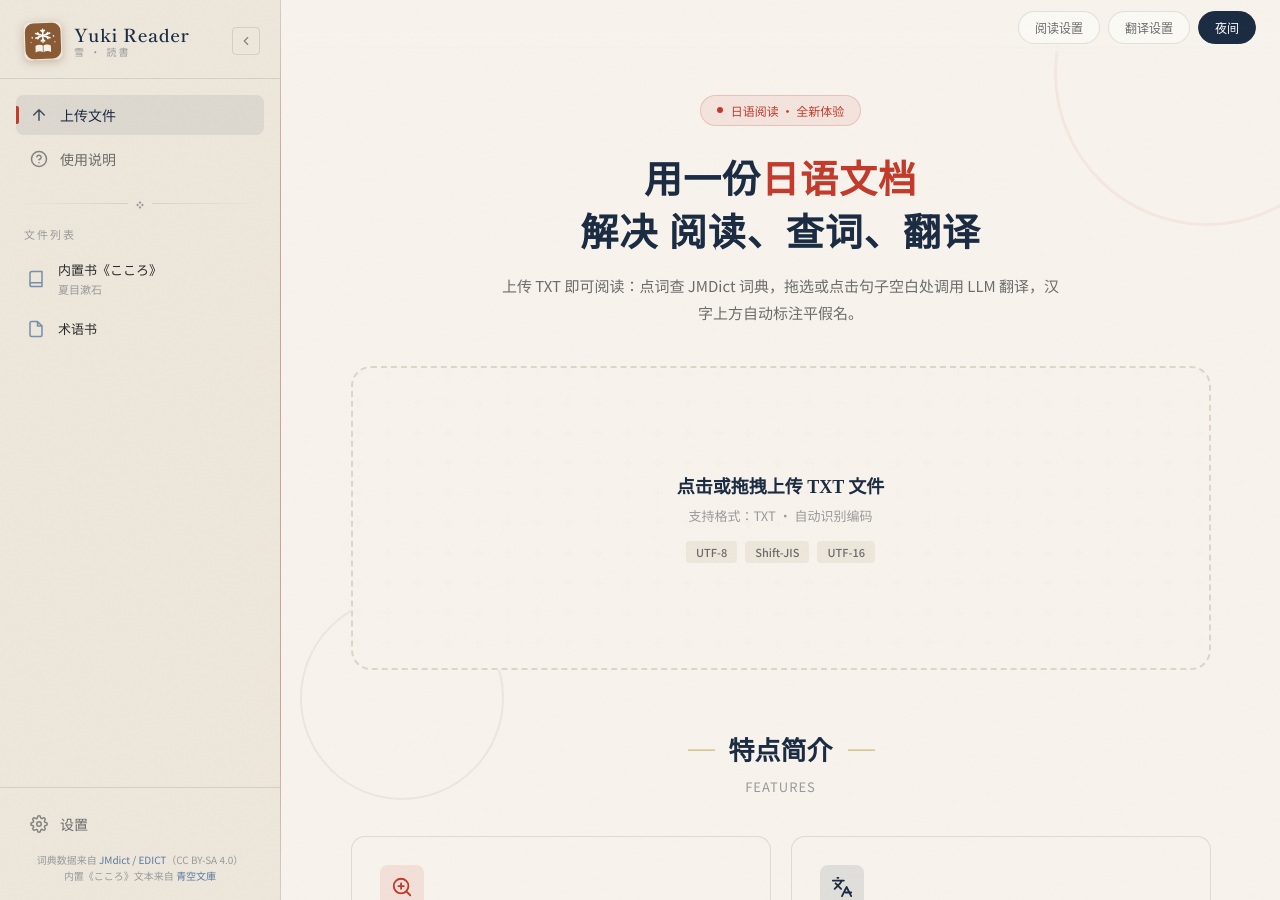
Test case: 每书术语表 › adds a term via the topbar modal and injects it into the translation prompt
The image size is (1280, 900).
Click the button "术语书".
click(125, 328)  # box [12, 309, 238, 348]
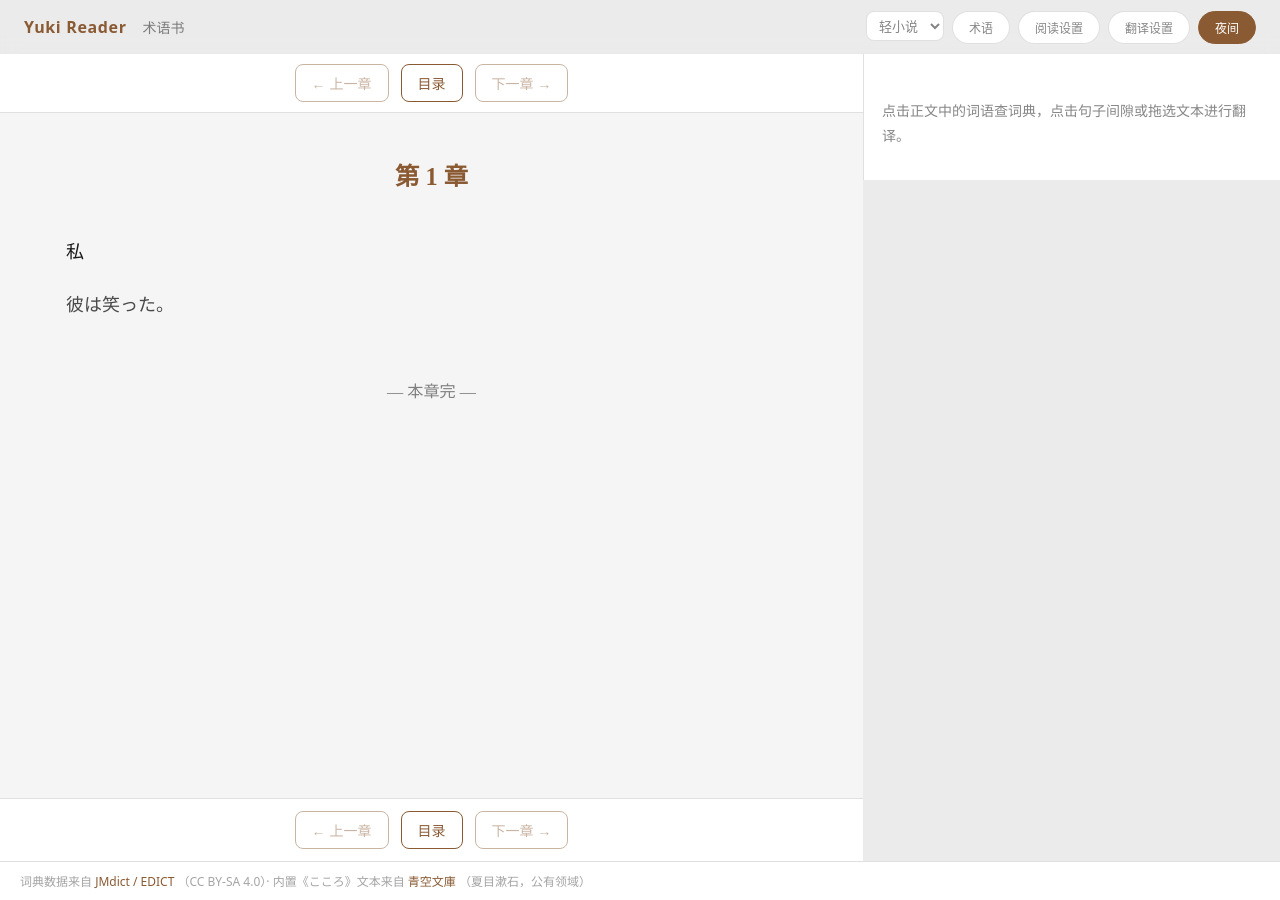
Click the button "术语".
click(981, 27)  # box [952, 10, 1010, 44]
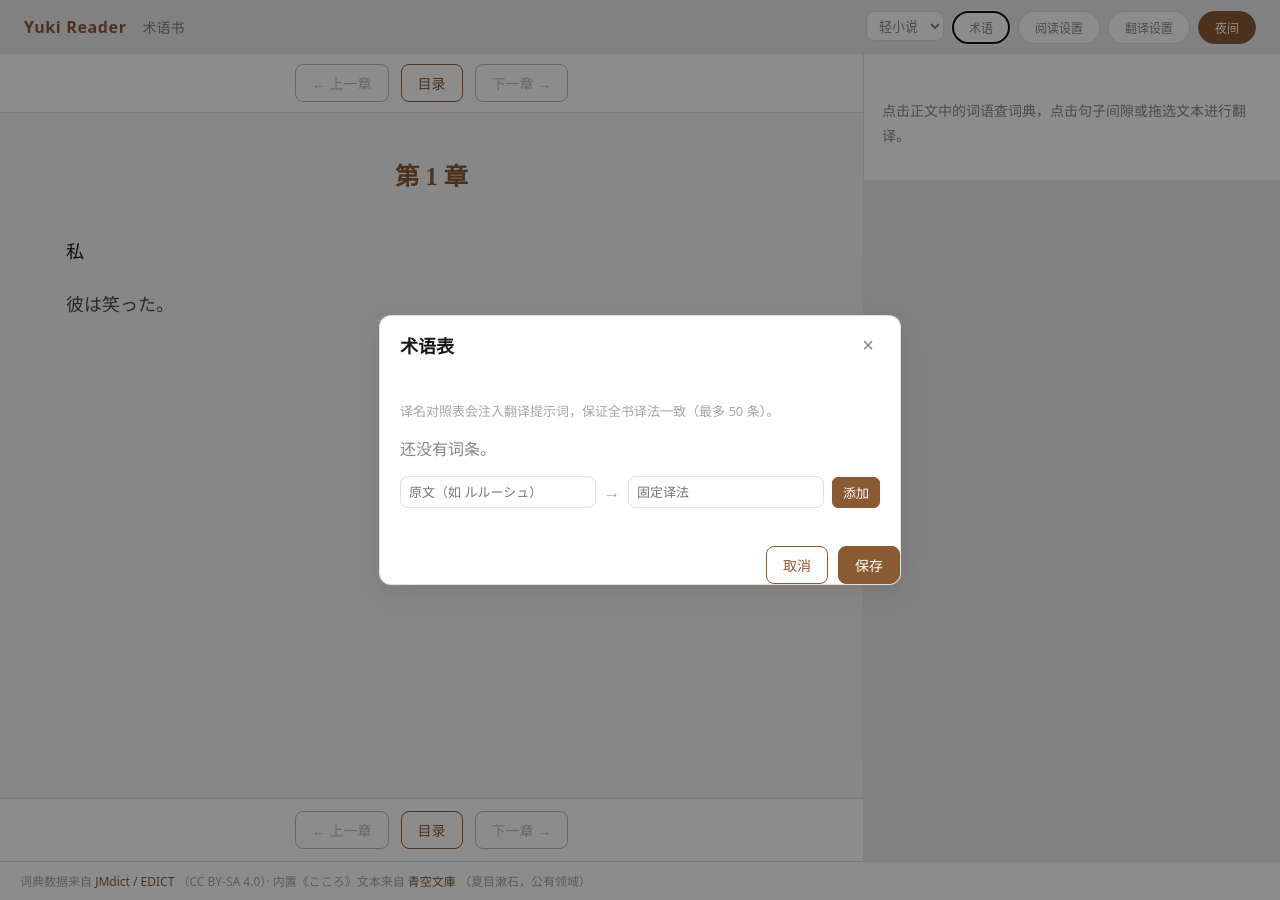
Type "ルルーシュ" into the field named "术语原文".
click(498, 492); type("ルルーシュ")  # box [400, 476, 596, 508]
Type "鲁路修" into the field labelled "固定译法".
click(726, 492); type("鲁路修")  # box [628, 476, 824, 508]
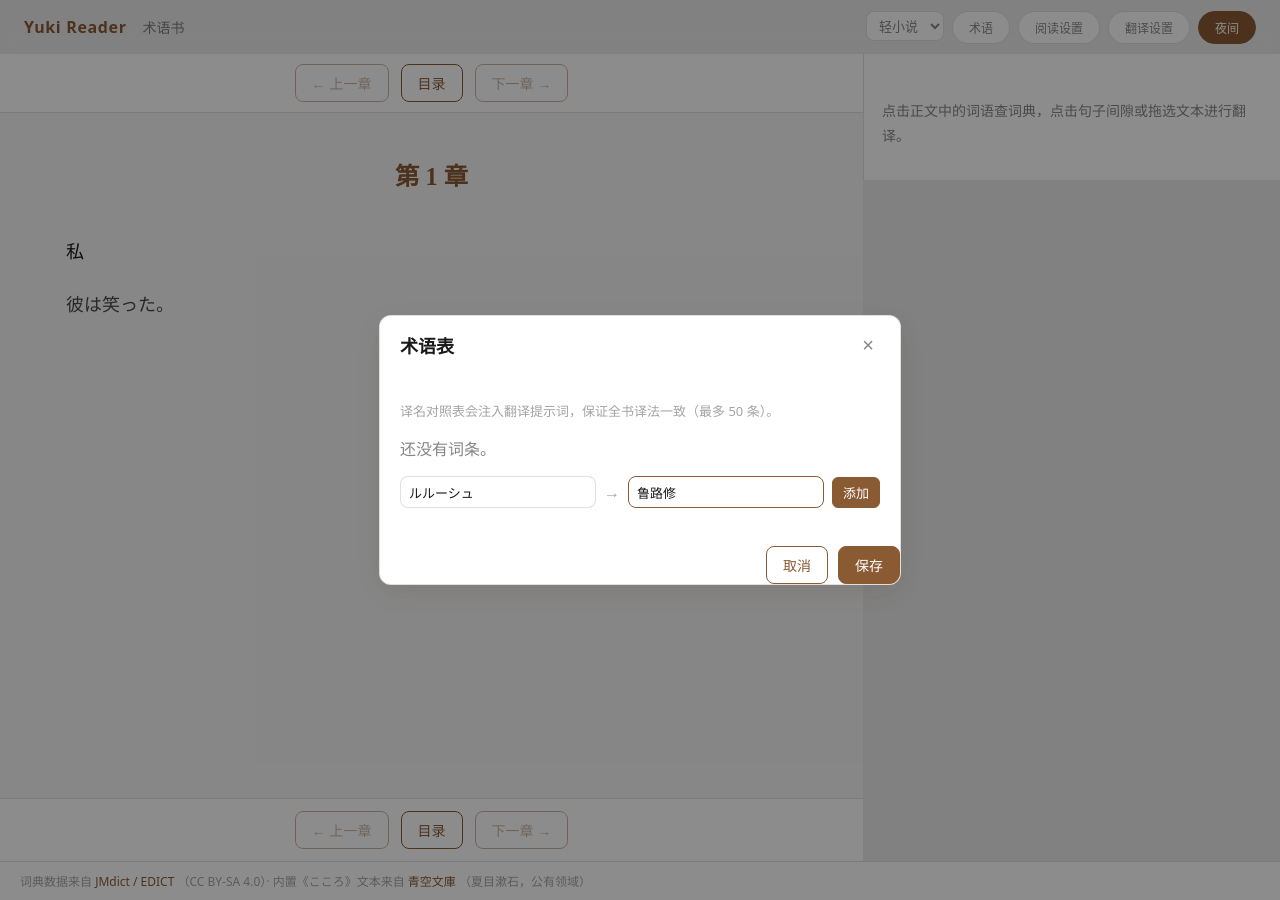
Click the button "添加".
click(856, 492)  # box [832, 476, 880, 508]
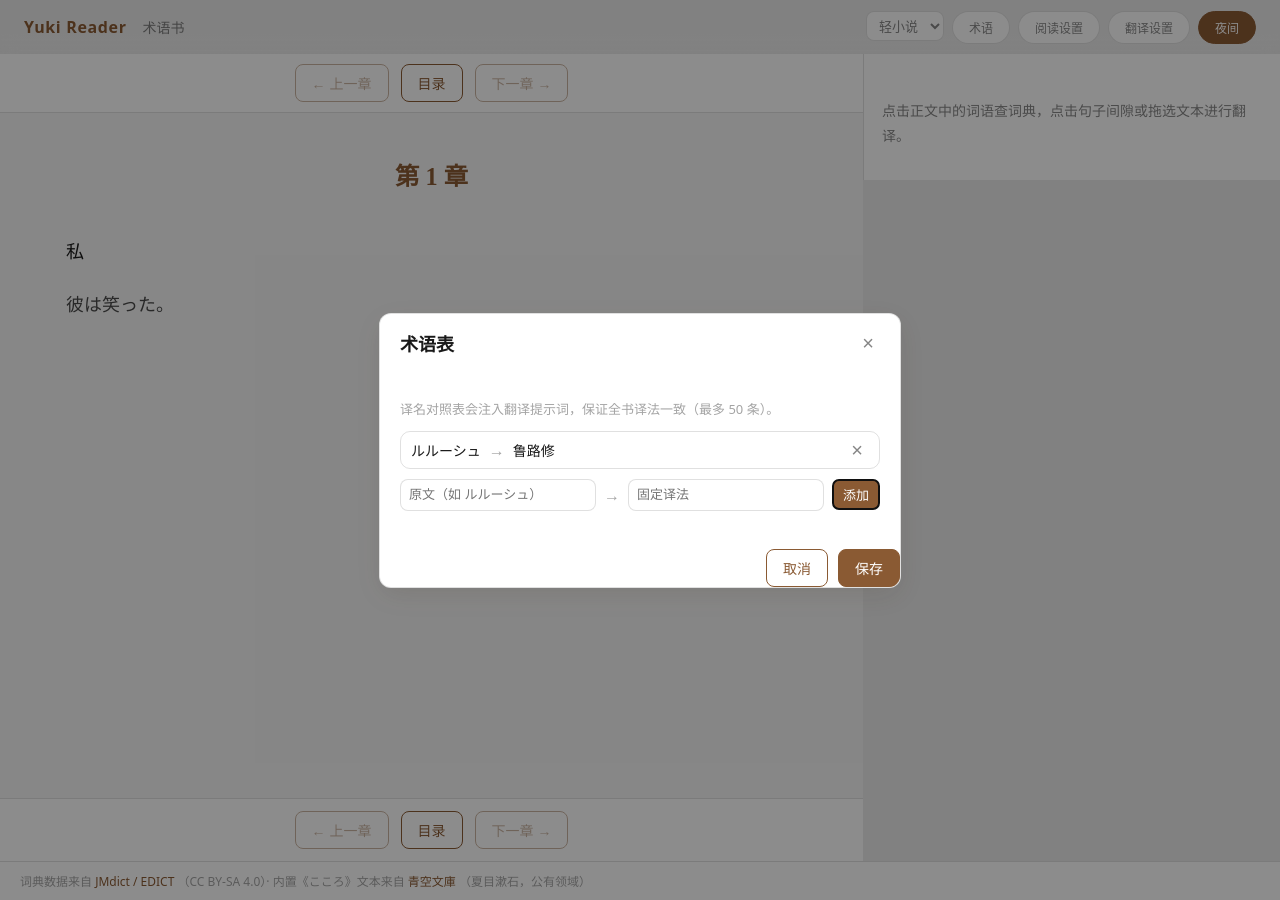
Click the button "保存".
click(869, 568)  # box [838, 548, 900, 586]
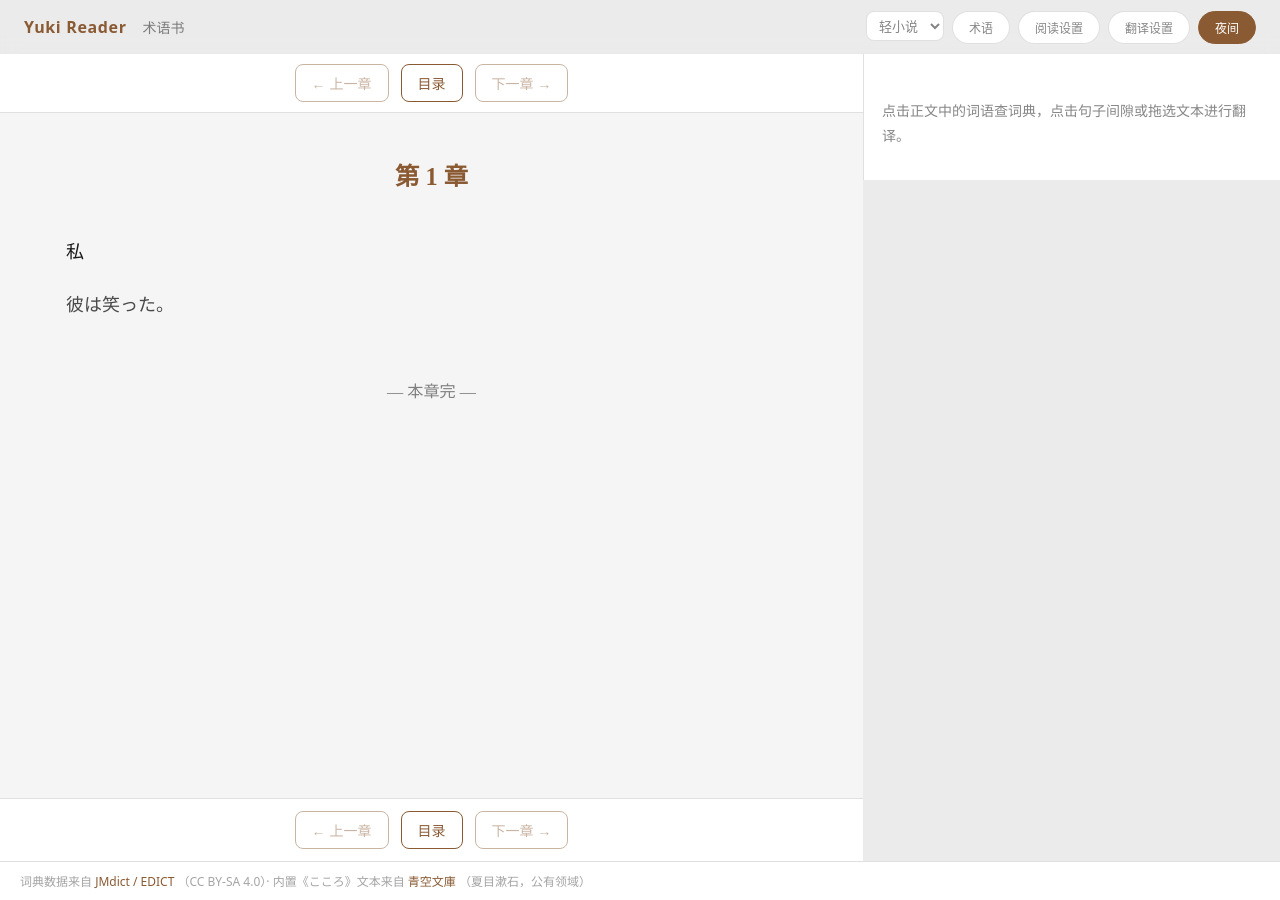
Click the element with test id "sentence" showing "私".
click(75, 252)  # box [66, 242, 84, 262]
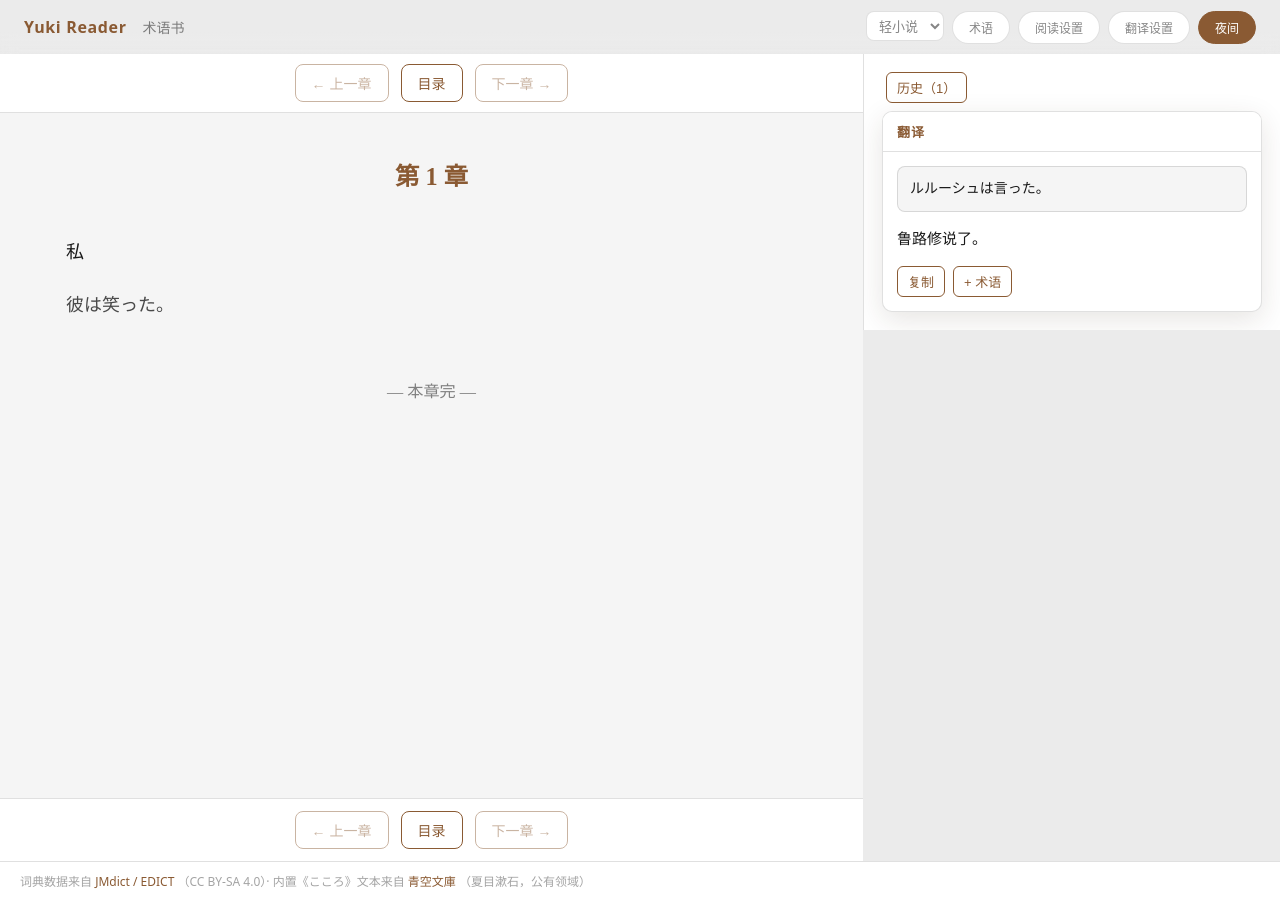
Result: the text "鲁路修说了。" is shown at [897, 228, 987, 248]
